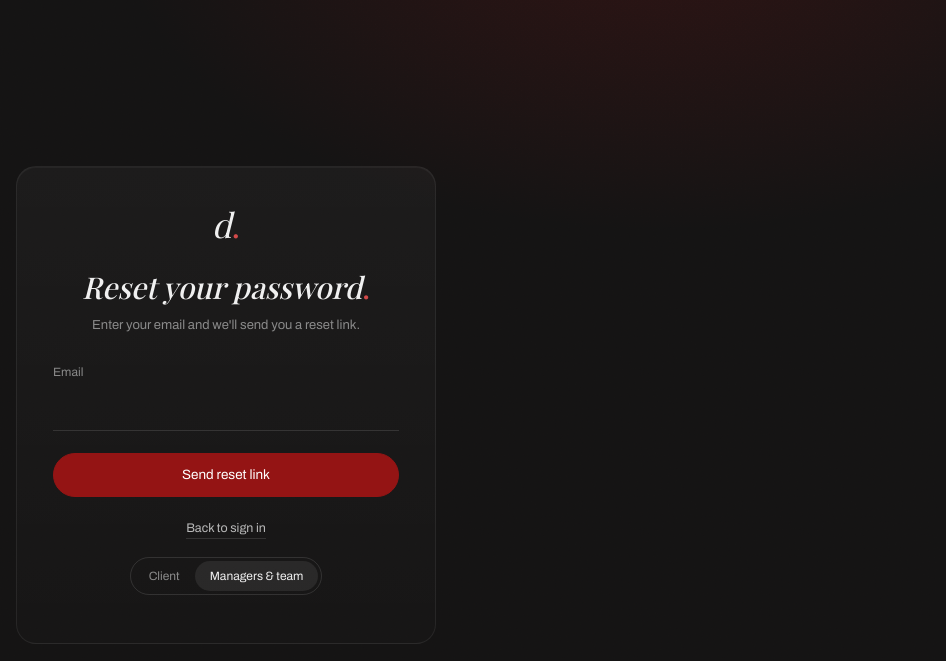
Test: ForgotPasswordPage › has the client / team switch, and flipping it changes where the request goes
Click the tab "Client" at (164, 576), box [134, 561, 195, 591]
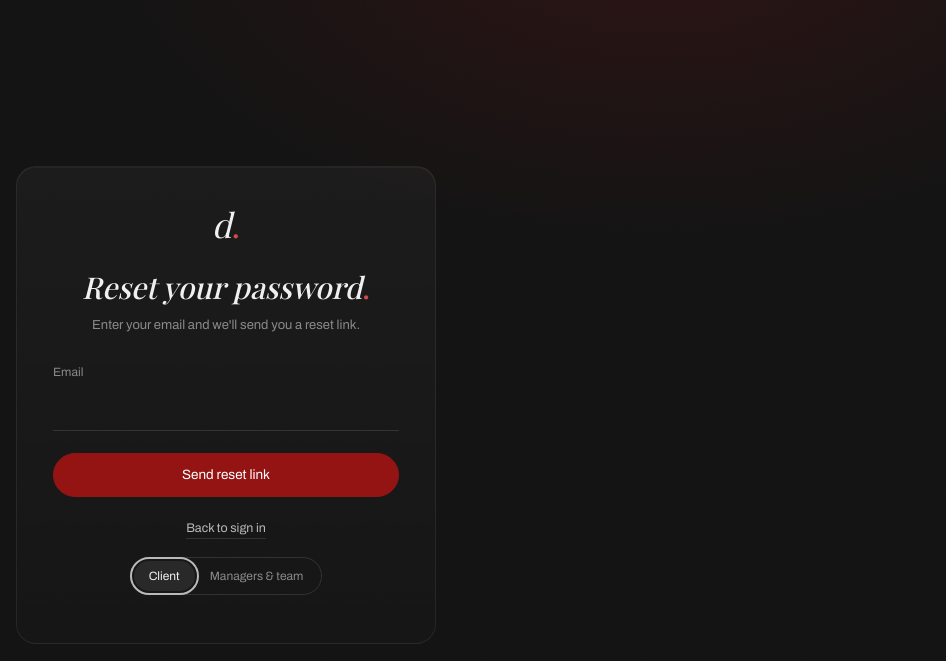
Type "jane@acme.com" into the field labelled "Email" at (226, 410), box [53, 389, 399, 431]
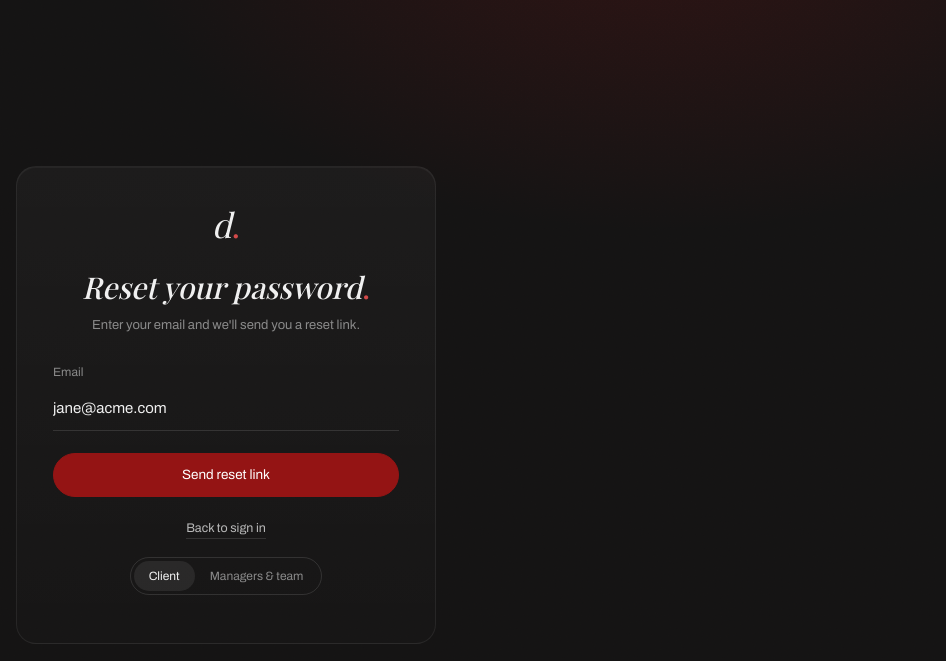
Click the button "Send reset link" at (226, 475), box [53, 453, 399, 497]
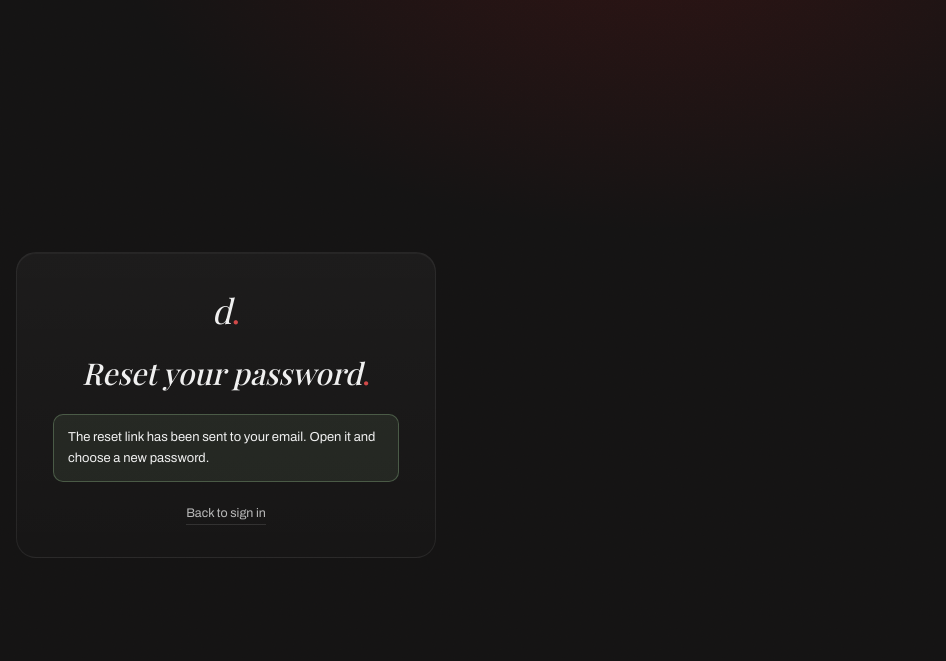
Check: the text "The reset link has been sent to your email. Open it and choose a new password." is shown, box [53, 414, 399, 482]
